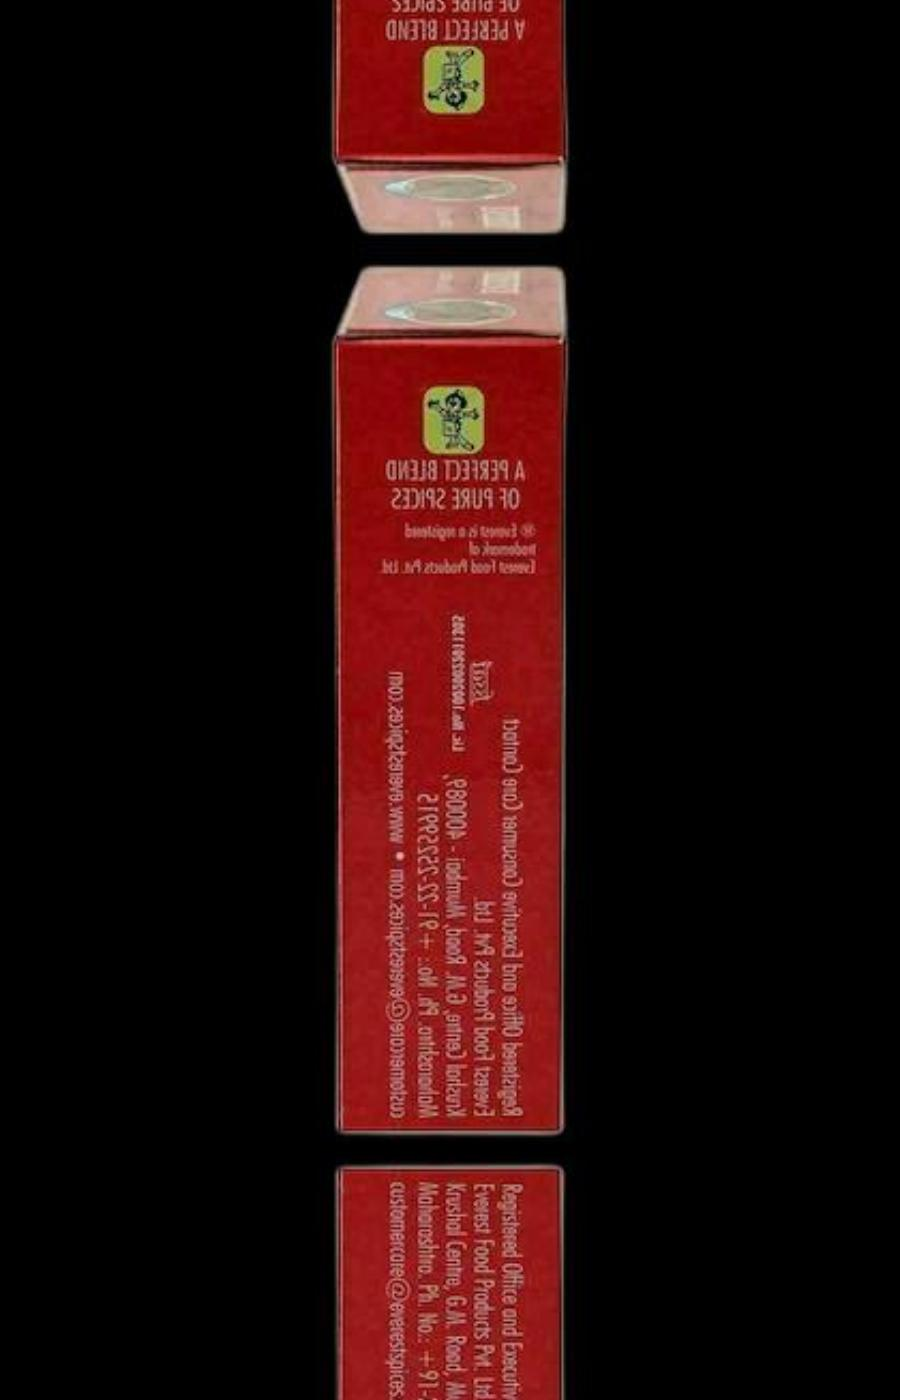Everest Chicken Masala 50 g: (326, 265, 570, 1143), (326, 1157, 571, 1400), (326, 0, 571, 235)
